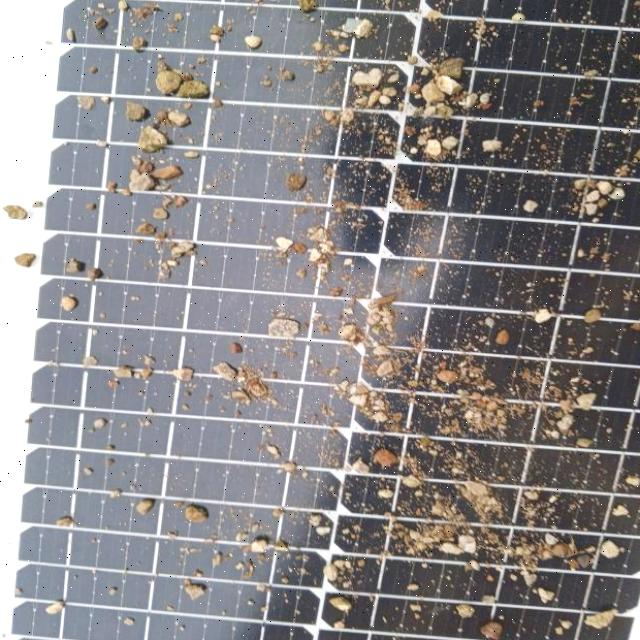Surface Contaminant: (10, 0, 633, 633)
